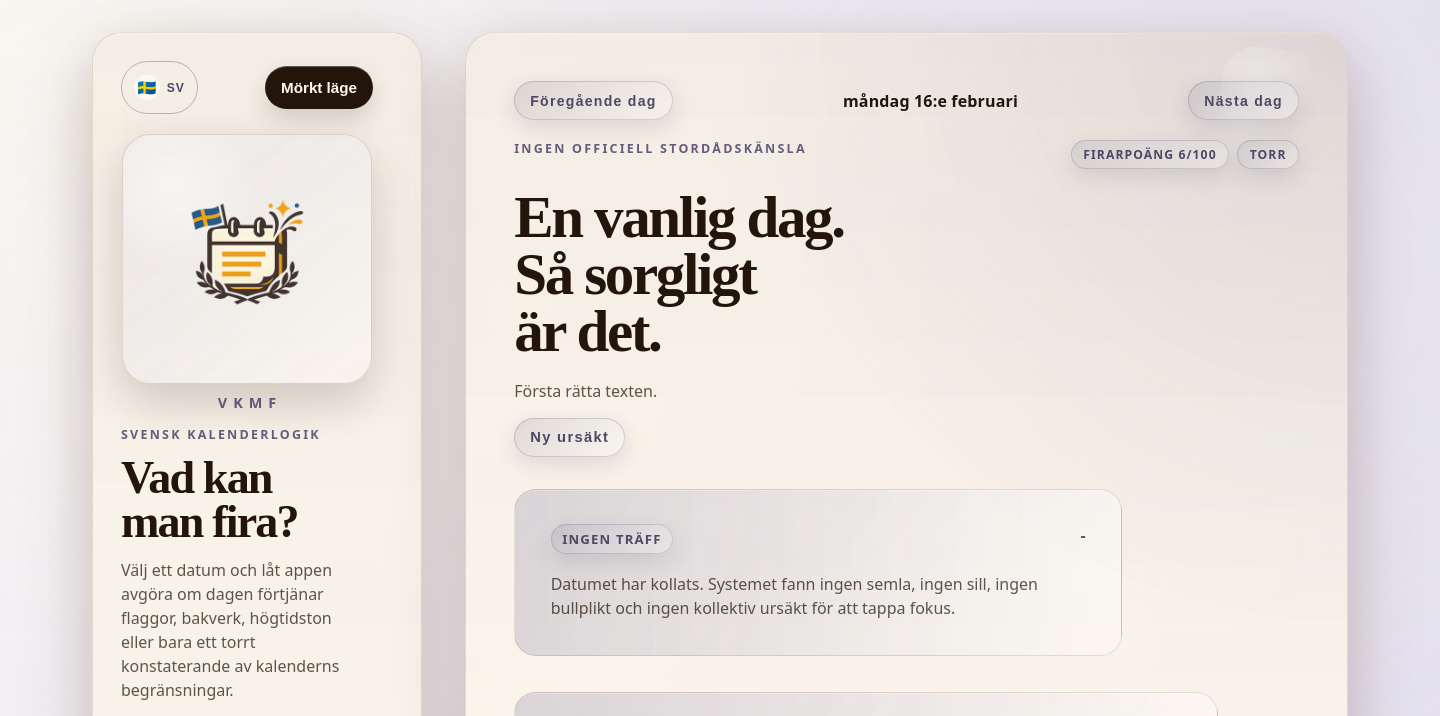
hides the previous ai blurb while a new date request is loading
The image size is (1440, 716).
Expected: the text "Hämtar dagens text." is not shown
Expected: the text "Första rätta texten." is shown, [514,380,657,402]
Click the button "Nästa dag": (1244, 100) [1188,81,1299,120]
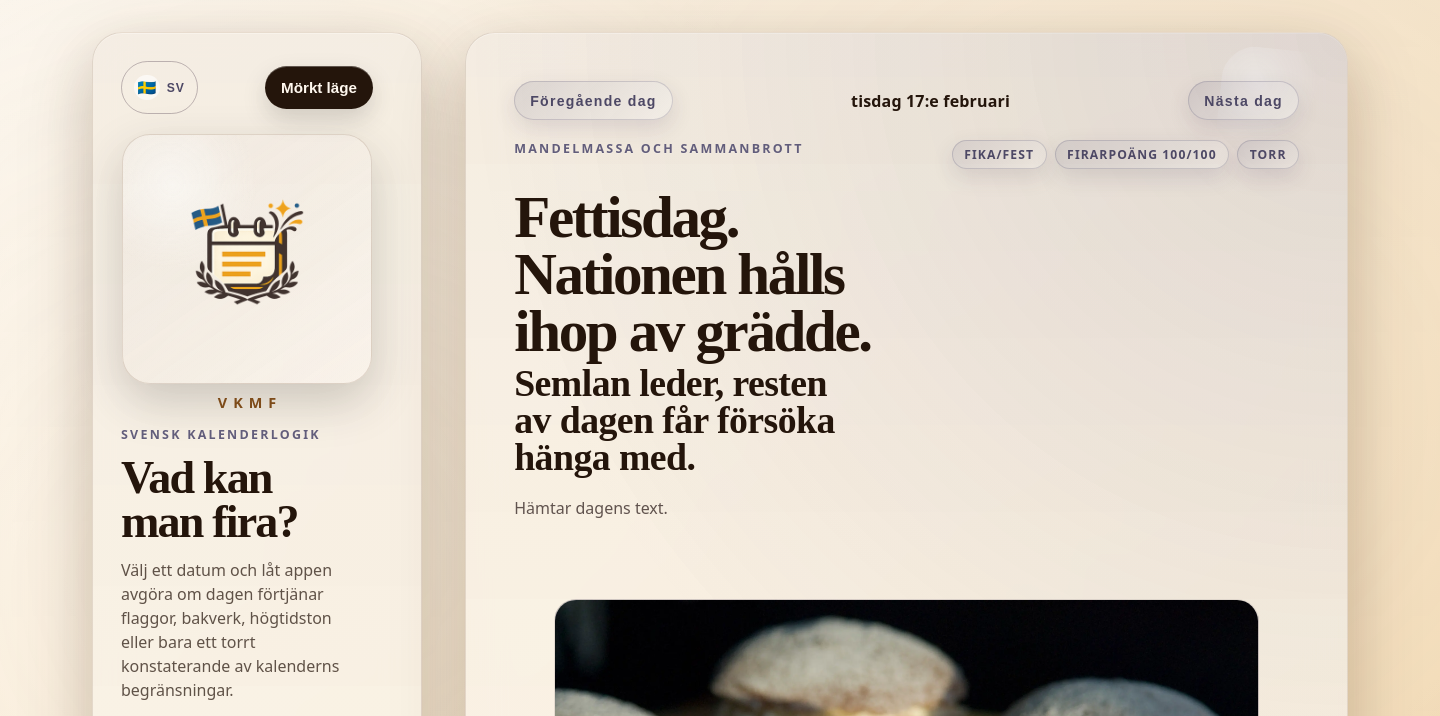
Expected: the text "Hämtar dagens text." is shown, [514,497,668,519]
Expected: the text "Första rätta texten." is gone
